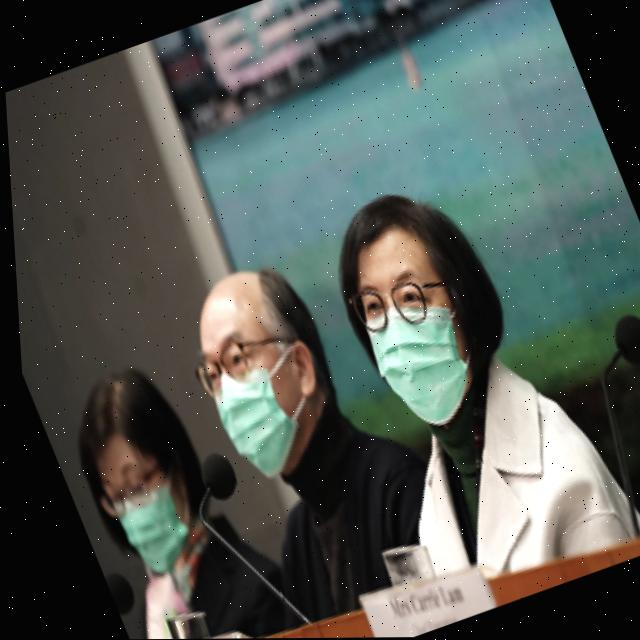Mask: (344, 264, 502, 438), (190, 322, 349, 487), (83, 420, 217, 578)
